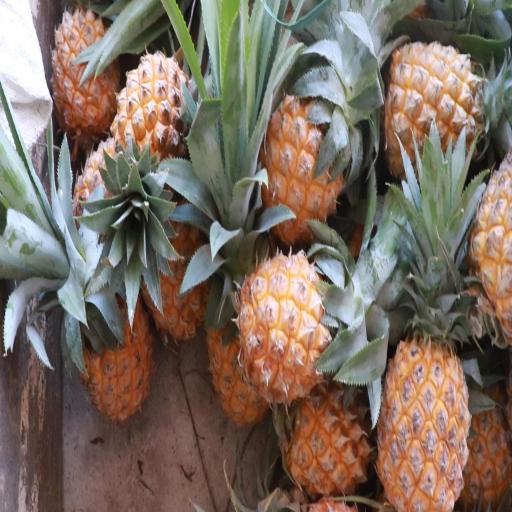Pineapple - v8 v1: (375, 280, 471, 511), (235, 243, 341, 414), (382, 39, 487, 191), (74, 246, 158, 433), (257, 87, 351, 254), (277, 363, 380, 499), (136, 173, 214, 348), (457, 147, 512, 364), (108, 49, 194, 185), (49, 7, 124, 145)
